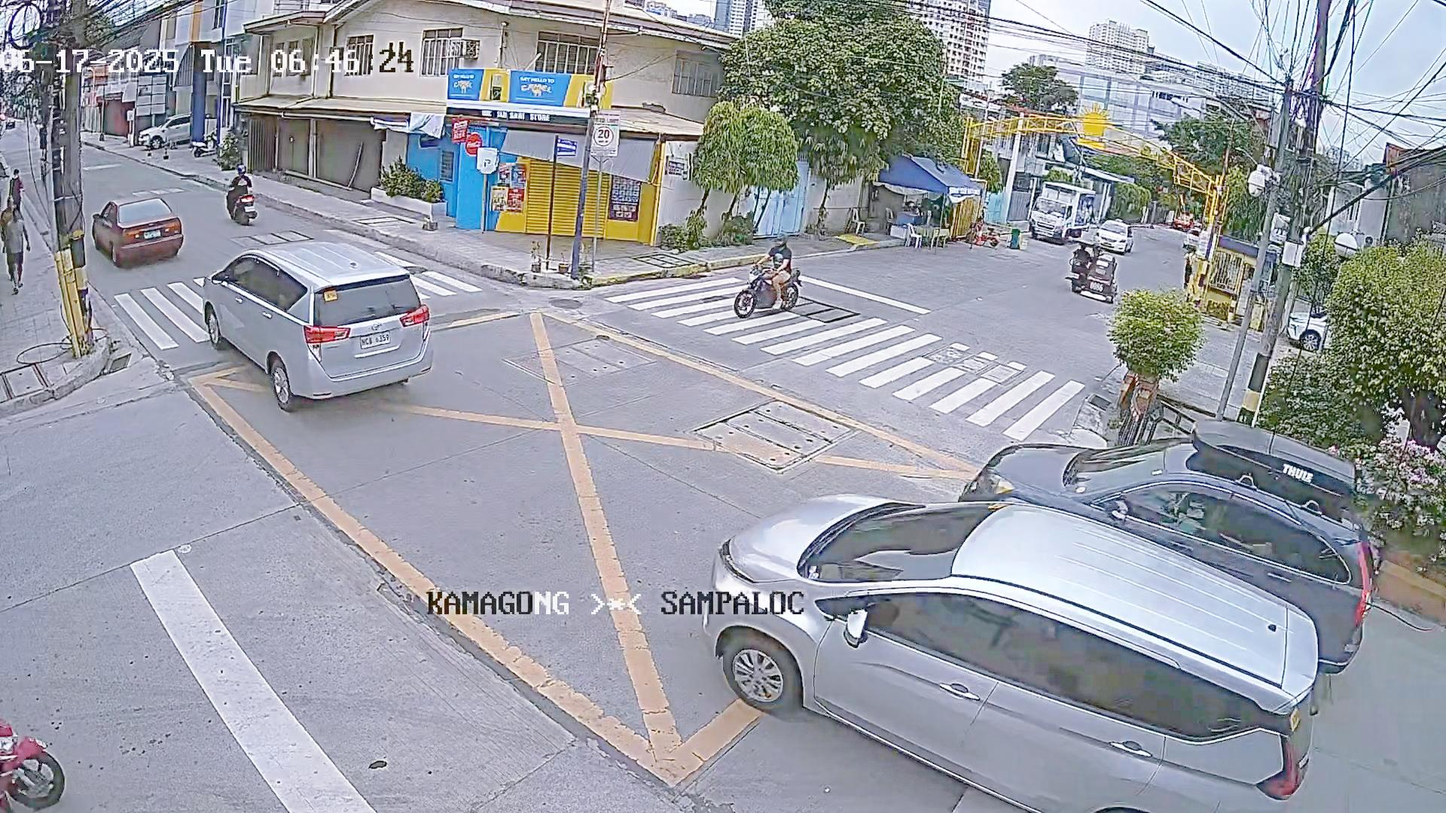Car: (652, 444, 1353, 813), (957, 365, 1401, 694), (201, 215, 497, 428), (71, 175, 196, 267), (1030, 155, 1090, 246), (1097, 199, 1146, 267)
Motor: (703, 218, 800, 333), (205, 127, 283, 234)
